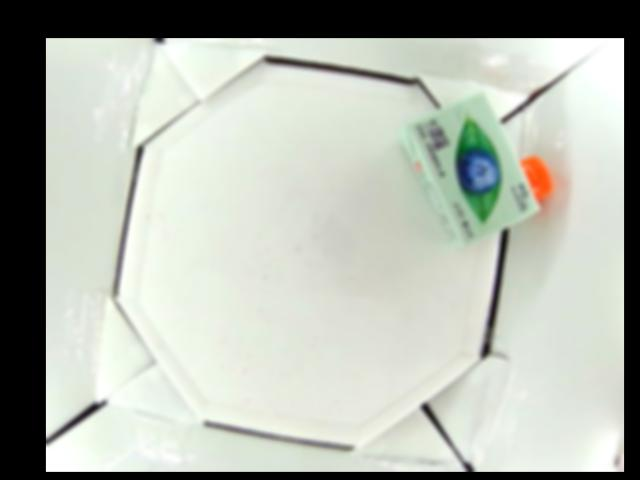Bottle: (398, 87, 556, 247)
